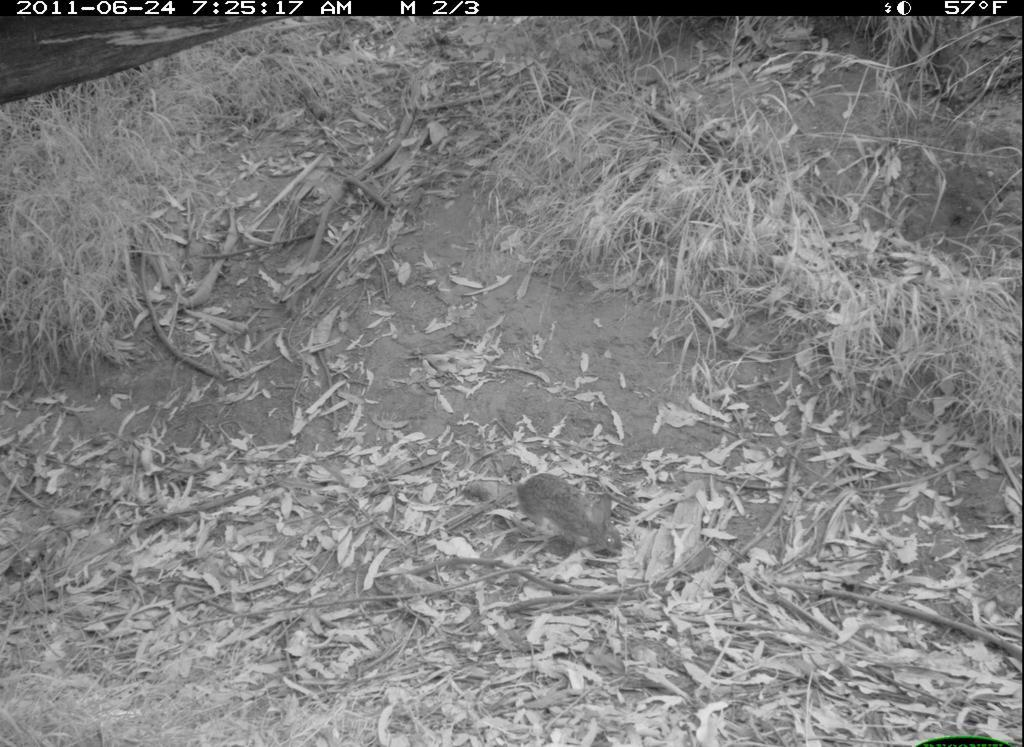rabbit: (484, 442, 646, 571)
